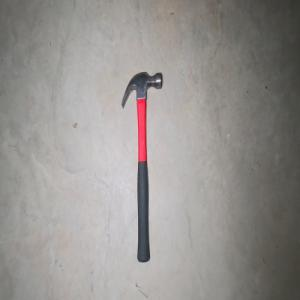Hammer: (120, 70, 162, 263)
